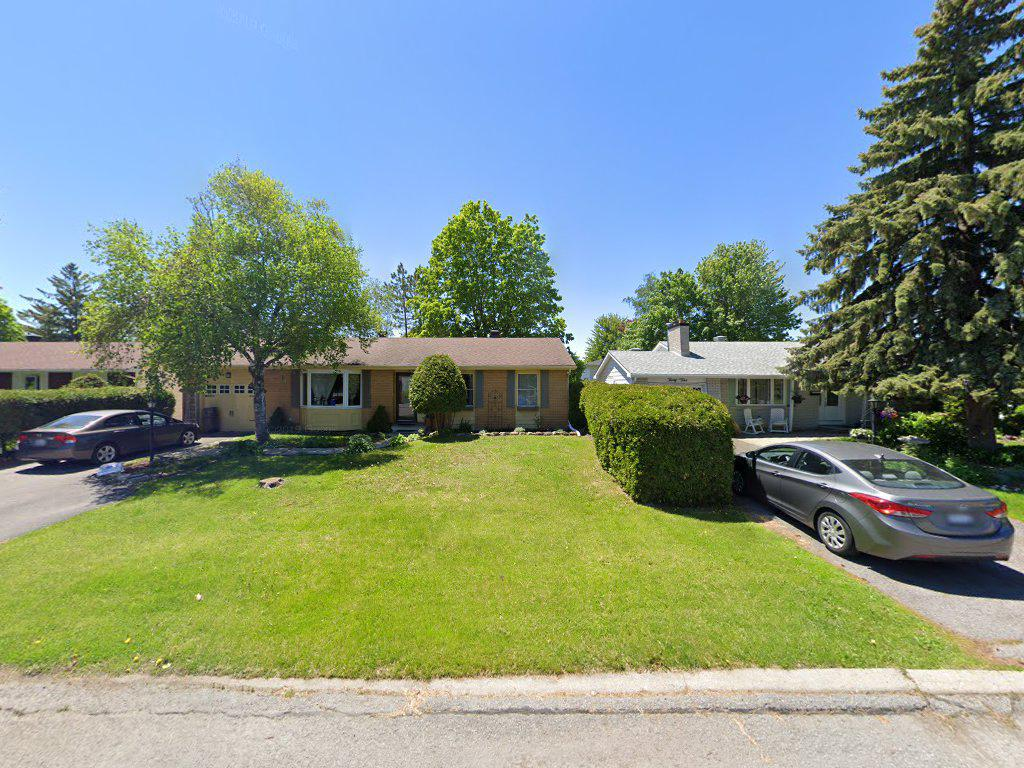trunk: (249, 356, 269, 453)
